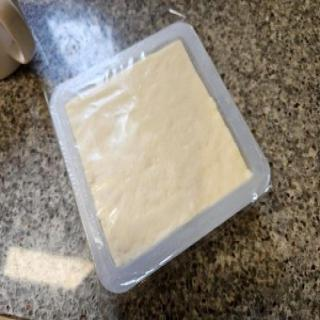Tahu: (66, 41, 252, 268)
